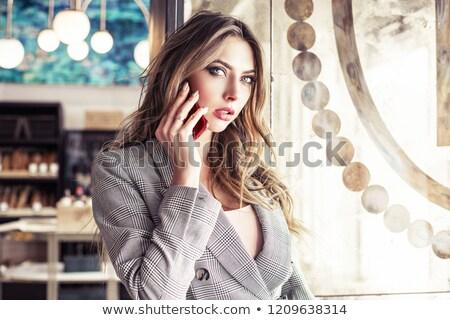phone: (162, 81, 210, 146)
talk: (152, 58, 258, 172)
